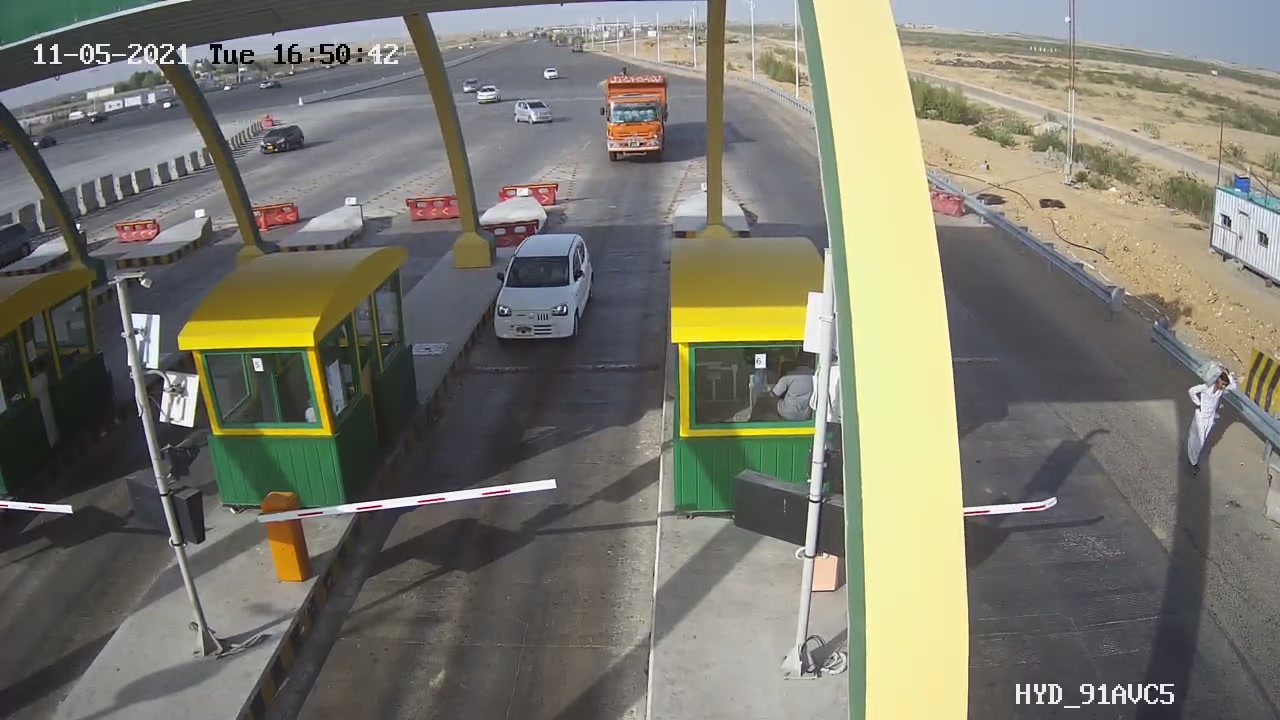F1: (467, 220, 616, 363)
